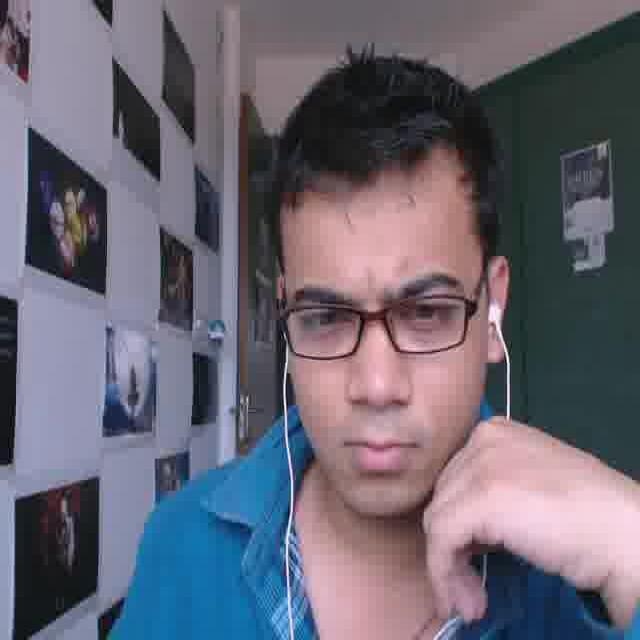Confusion: (281, 185, 483, 518)
